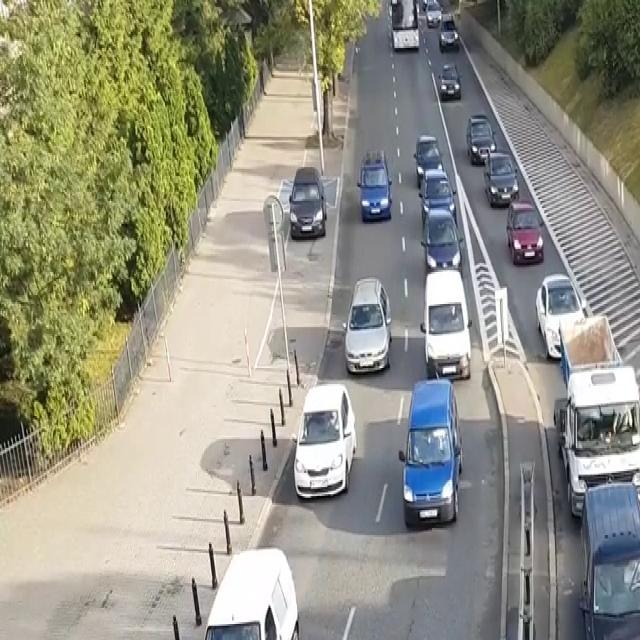bus: (389, 0, 421, 51)
car: (186, 542, 302, 640), (577, 483, 640, 640), (402, 378, 464, 526), (292, 380, 358, 500), (421, 269, 472, 381), (343, 276, 392, 376), (534, 272, 588, 354), (289, 165, 327, 240), (505, 201, 545, 266), (358, 149, 392, 222), (425, 209, 462, 275), (484, 148, 520, 209), (421, 168, 457, 227), (466, 114, 498, 166), (415, 134, 444, 184), (439, 64, 462, 102), (439, 14, 459, 52)
van: (559, 313, 640, 512)
